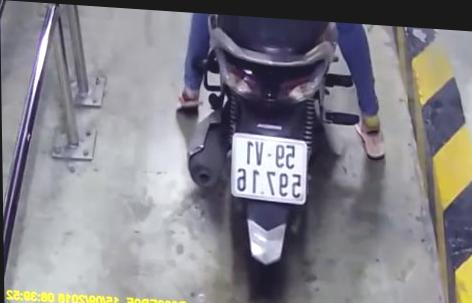License_Plate: (224, 130, 314, 209)
